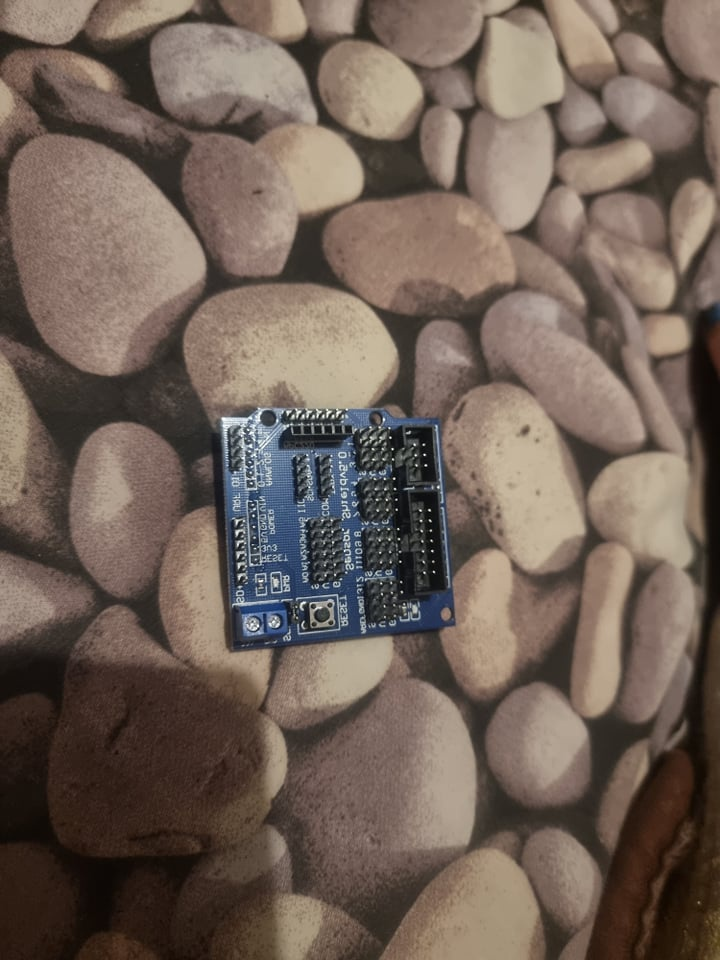5V EXPANSION: (224, 410, 457, 648)
